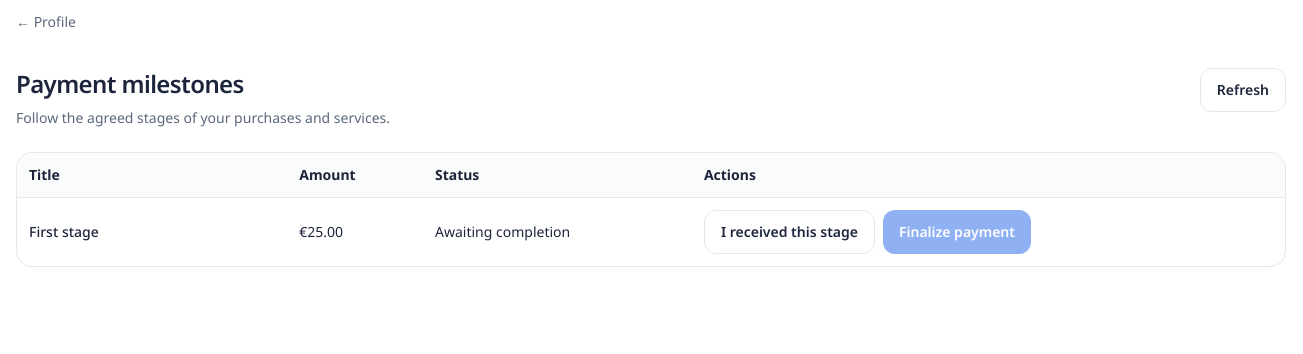
Test: Milestone reliability › requires a refresh before repeating an action whose state could not be read
Click the button "I received this stage": (789, 232) [704, 210, 875, 254]
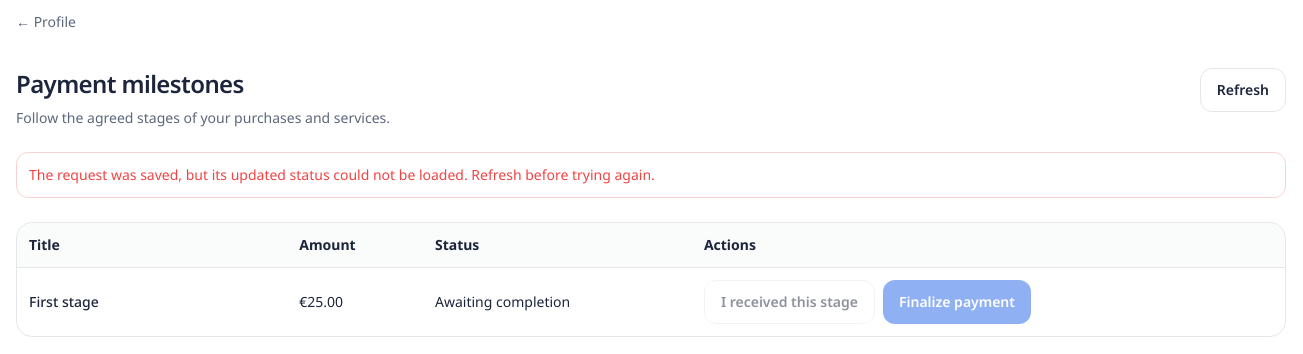
Expected: the message shows "Refresh before trying again", [29, 165, 655, 184]
Expected: the button "I received this stage" is disabled, [704, 280, 875, 324]
Click the button "Refresh": (1243, 90) [1200, 68, 1286, 112]
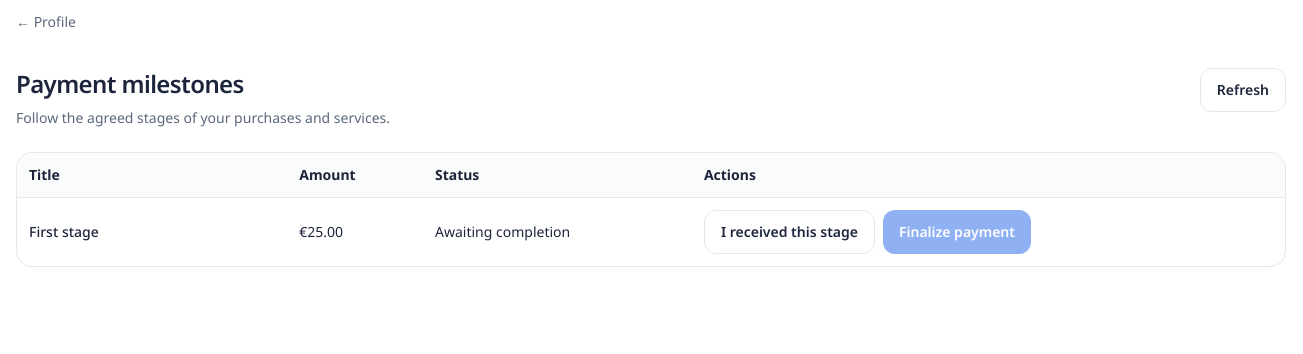
Expected: the button "I received this stage" is enabled, [704, 210, 875, 254]
